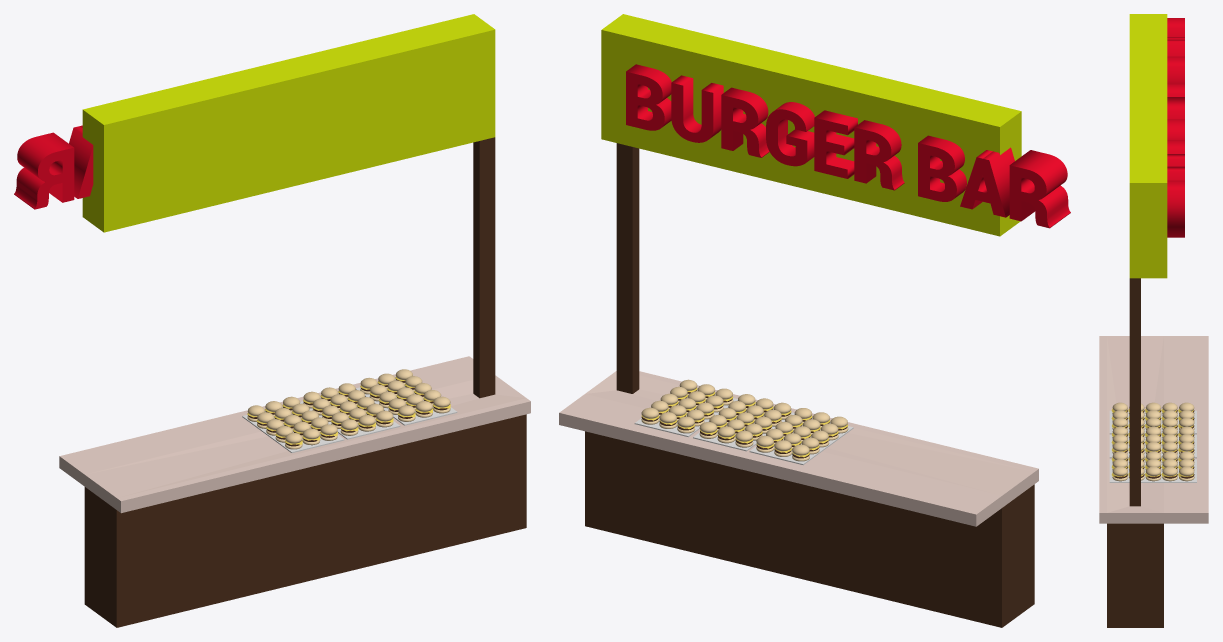
File: BurgerBar.fbx
3 renders of one model, left to right at view 1: azimuth 30°, elevation 25°; view 2: azimuth 150°, elevation 25°; view 3: azimuth 270°, elevation 25°, orthographic. The views are drawn at different scales.
Visible parts, largest first — view 1: Base.002, Text, Cylinder.002, Cylinder, Cylinder.001; view 2: Base.002, Text, Cylinder.002, Cylinder, Cylinder.001; view 3: Base.002, Text, Cylinder, Cylinder.001, Cylinder.002, Cube, Cube.001, Cube.002.
Boxes of the visible parts, <box> form: Base.002: <box>59,14,530,627</box>; Text: <box>14,125,93,209</box>; Cylinder.002: <box>247,396,337,449</box>; Cylinder: <box>360,369,450,421</box>; Cylinder.001: <box>303,383,393,435</box>; Base.002: <box>559,14,1038,627</box>; Text: <box>626,64,1070,228</box>; Cylinder.002: <box>756,408,848,461</box>; Cylinder: <box>641,379,733,433</box>; Cylinder.001: <box>699,394,791,447</box>; Base.002: <box>1099,14,1208,627</box>; Text: <box>1167,18,1184,237</box>; Cylinder: <box>1111,451,1194,481</box>; Cylinder.001: <box>1111,426,1194,454</box>; Cylinder.002: <box>1111,402,1194,429</box>; Cube: <box>1109,459,1196,482</box>; Cube.001: <box>1109,434,1196,458</box>; Cube.002: <box>1109,410,1196,434</box>.
Bounding box in the file's own units: 396 × 398 × 90.12.
